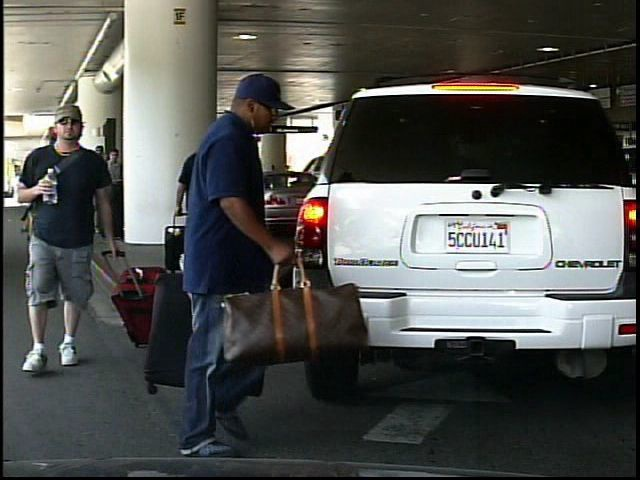person: (167, 74, 312, 464), (23, 101, 117, 376), (165, 130, 231, 274)
